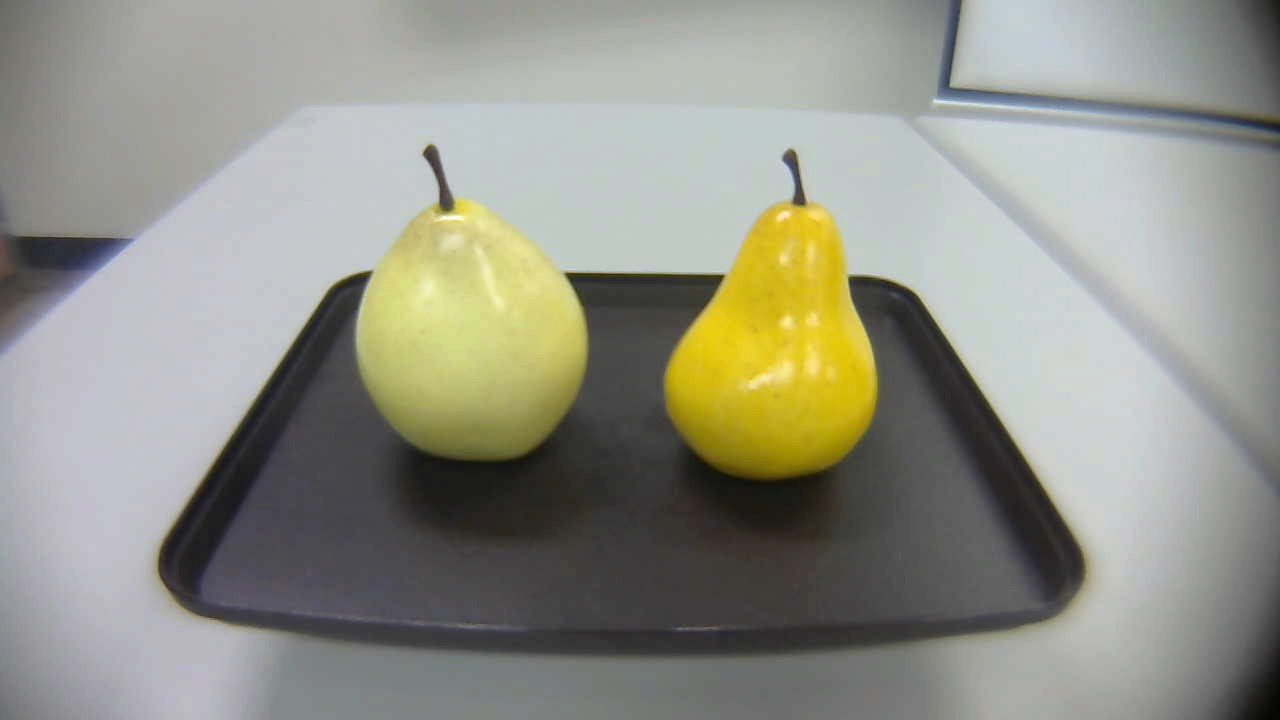western pear: (351, 143, 594, 476)
yellow pear: (655, 148, 886, 493)
